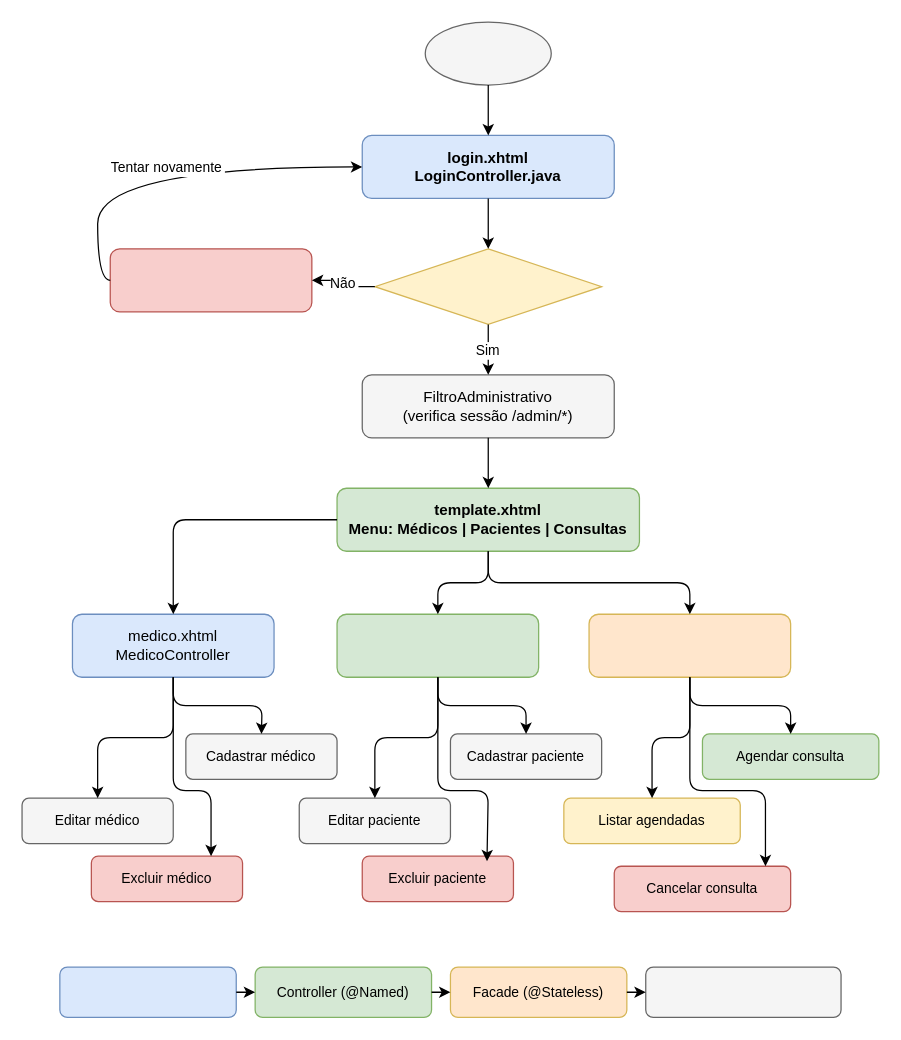
Image size: 901x1040. Some labels were removed from this diagram. Here are the shapes that lost their labels. From the top down, the centre of each, then its label:
At (487,53): "Início".
At (210,280): "Exibe erro (mensagem p:messages)".
At (488,286): "Credenciais válidas?".
At (437,645): "paciente.xhtml PacienteController".
At (689,645): "consulta.xhtml ConsultaController".
At (147,991): ".xhtml (PrimeFaces/JSF)".
At (742,991): "Entity (JPA/PostgreSQL)".
